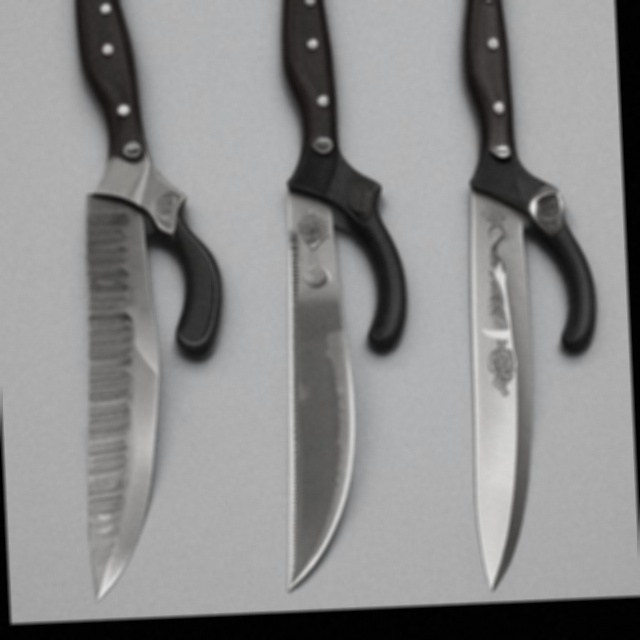Sharp-Object: (57, 0, 240, 607), (256, 0, 424, 597), (444, 0, 611, 597)
